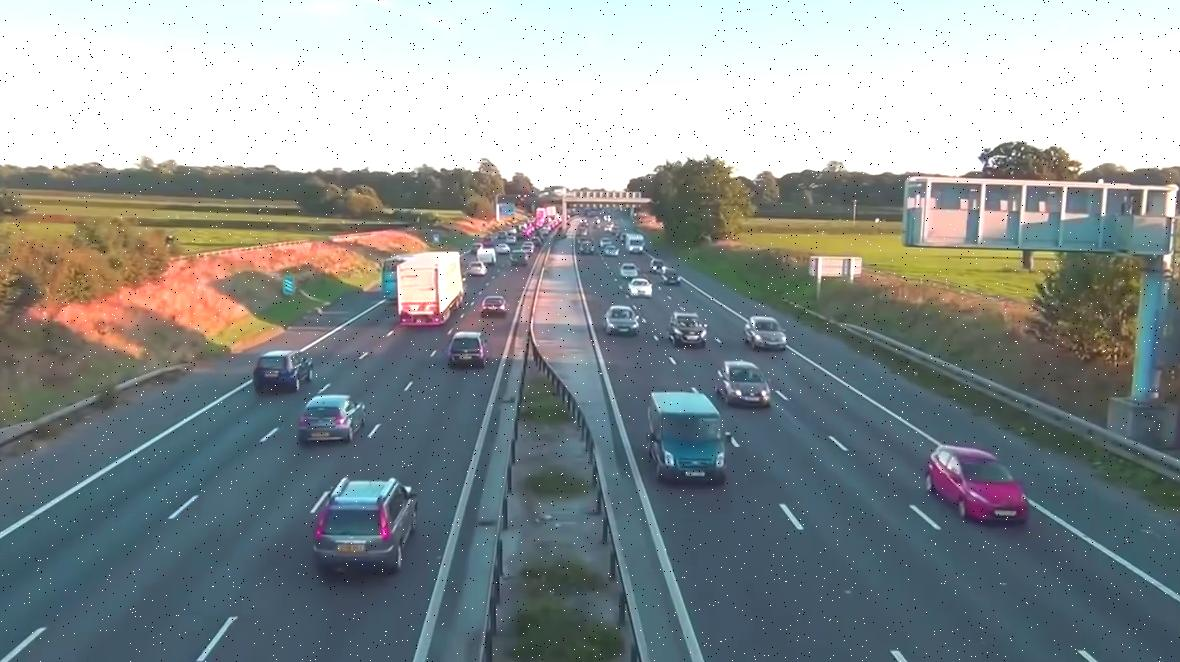car: (310, 475, 417, 570), (929, 437, 1034, 521), (648, 389, 723, 483), (715, 361, 773, 409), (250, 350, 309, 394), (300, 394, 356, 426), (741, 315, 785, 350), (446, 333, 488, 369), (668, 313, 708, 347), (603, 305, 640, 336), (482, 297, 509, 317), (629, 278, 654, 297), (661, 267, 680, 285), (616, 265, 638, 279)
truck: (398, 253, 467, 327), (510, 250, 527, 266), (468, 262, 486, 276)
